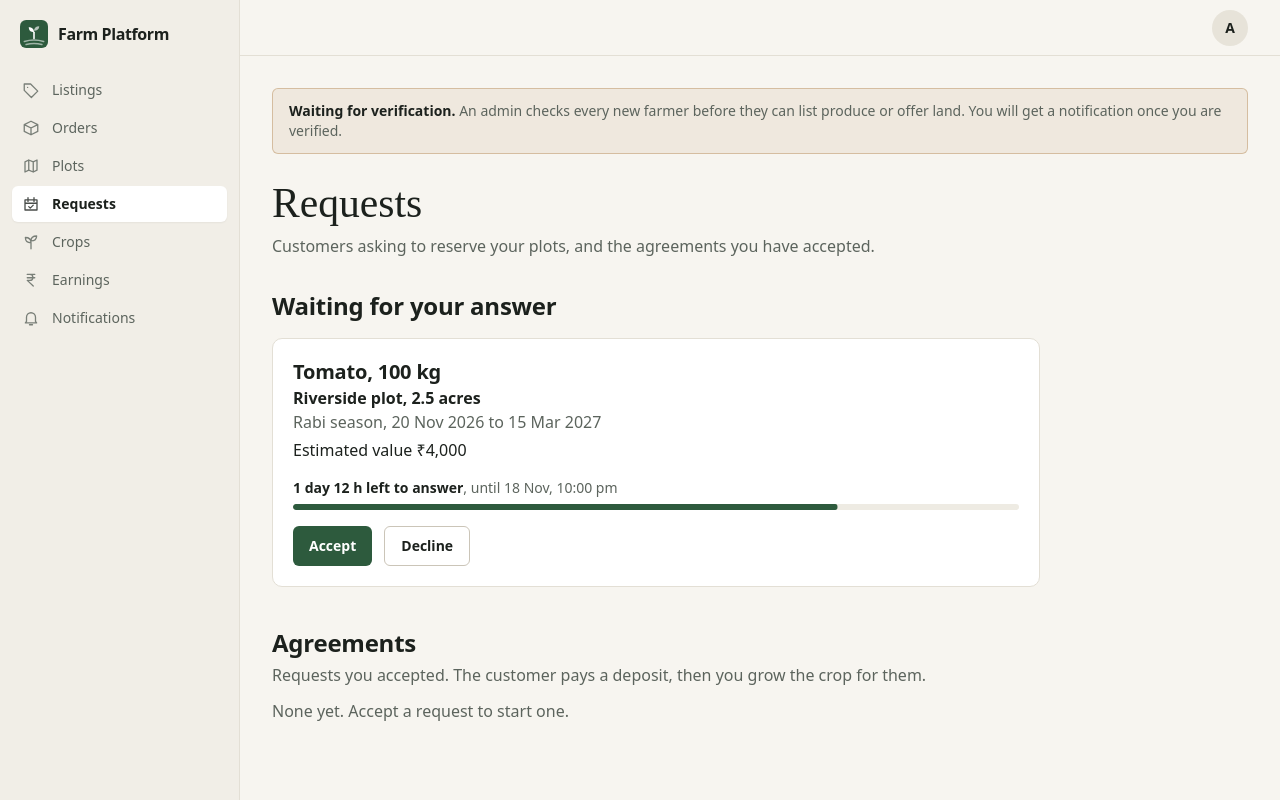
Test case: farmer reservation requests › asks before declining
The image size is (1280, 800).
Click the button "Decline" at (427, 546), box [384,526,470,566]
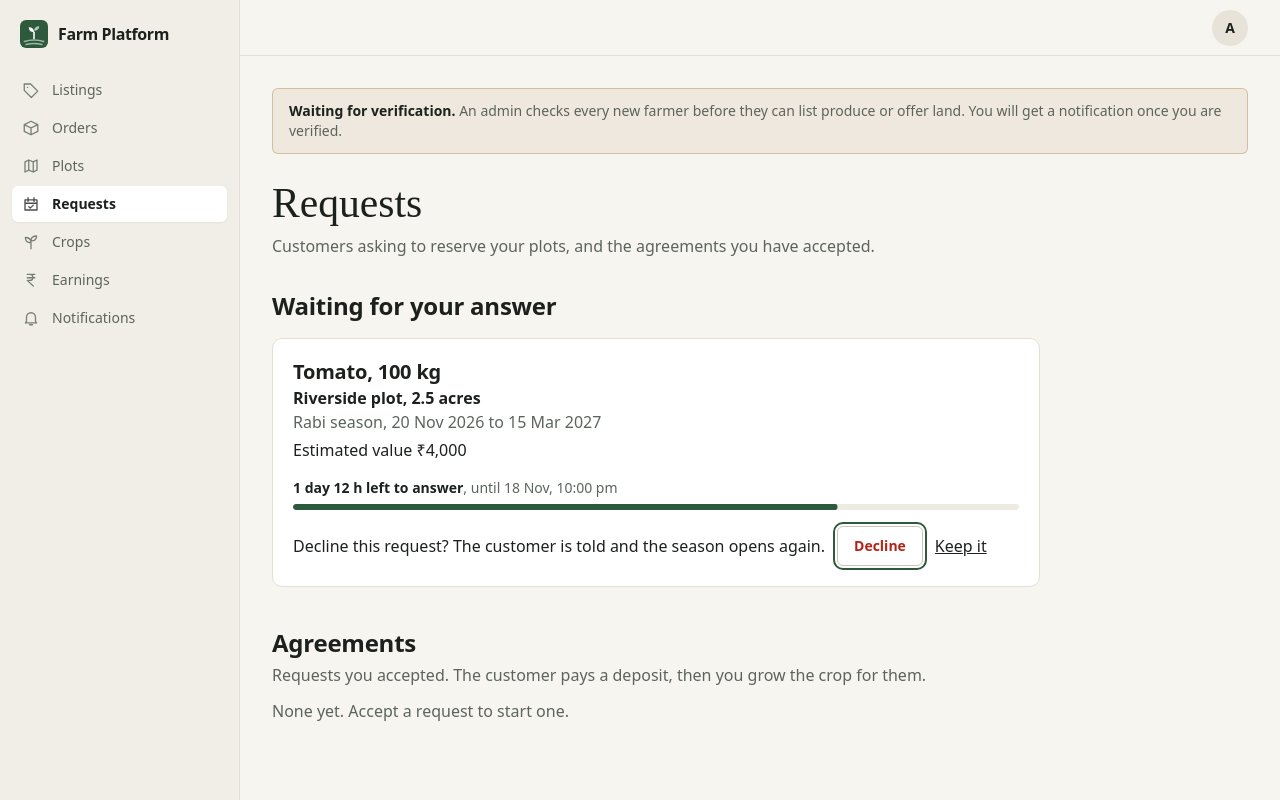
Expected: the text "Decline this request?" is shown, [293,535,825,557]
Click the button "Decline" at (880, 546), box [837,526,923,566]
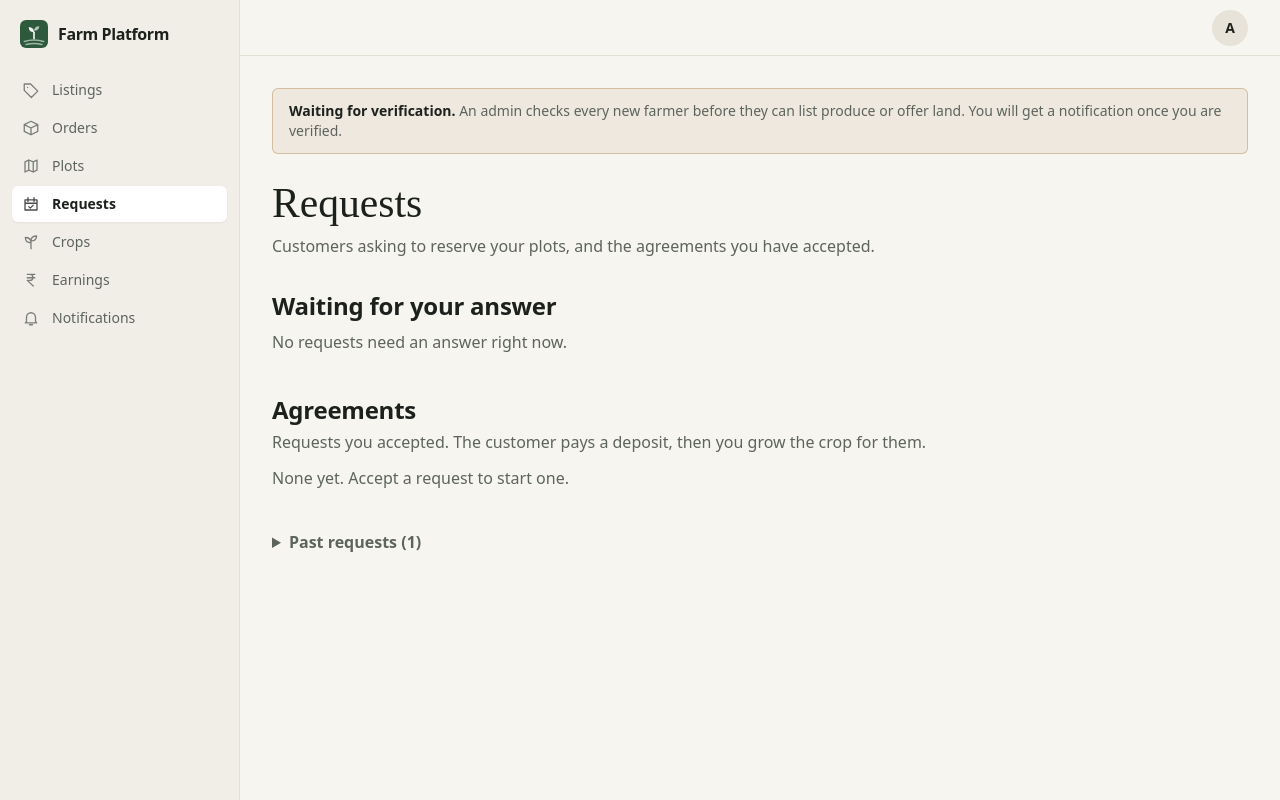
Expected: the heading "Past requests (1)" is shown, [289,531,421,553]
